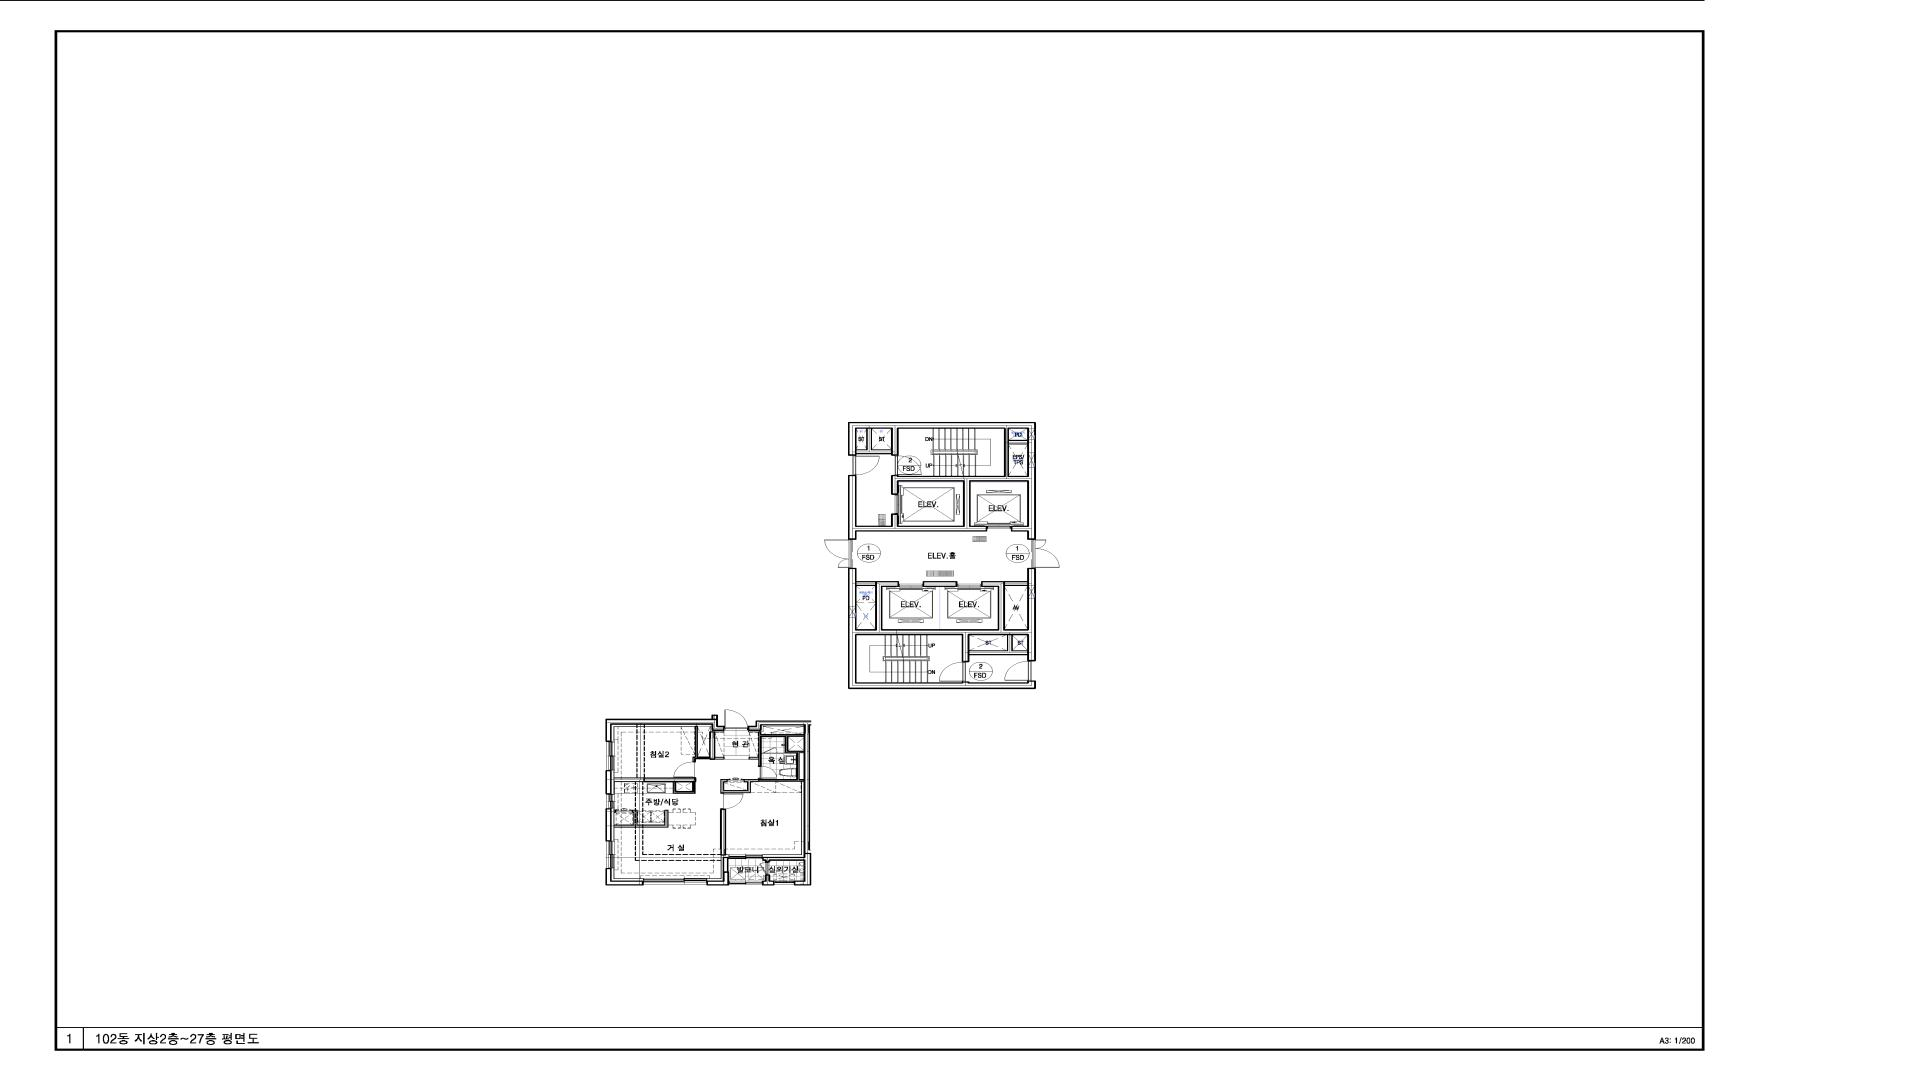background: (3, 0, 1920, 1080)
door: (1027, 539, 1060, 568), (824, 539, 856, 568), (939, 661, 969, 682), (1005, 661, 1036, 680), (891, 455, 922, 475), (848, 456, 880, 475), (724, 709, 748, 731), (674, 761, 696, 777), (720, 794, 744, 808), (758, 766, 777, 779), (760, 862, 769, 874), (728, 777, 744, 782), (762, 748, 777, 753)
wall: (848, 568, 1036, 690), (848, 422, 1036, 539), (748, 720, 811, 885), (720, 732, 803, 794), (605, 715, 724, 741), (969, 636, 1027, 655), (692, 727, 724, 761), (613, 810, 669, 828), (857, 429, 890, 454), (605, 868, 644, 886), (707, 857, 729, 885), (613, 777, 696, 782), (720, 808, 727, 856), (673, 782, 695, 794), (1004, 429, 1009, 476), (605, 808, 612, 841), (923, 582, 957, 587), (605, 770, 612, 794), (762, 874, 774, 885), (1005, 582, 1027, 585), (1009, 440, 1027, 444), (857, 582, 874, 585)
window: (644, 878, 707, 885), (607, 741, 615, 770), (607, 841, 615, 868), (729, 855, 762, 858), (729, 881, 762, 885), (607, 795, 615, 808), (774, 881, 794, 885)
